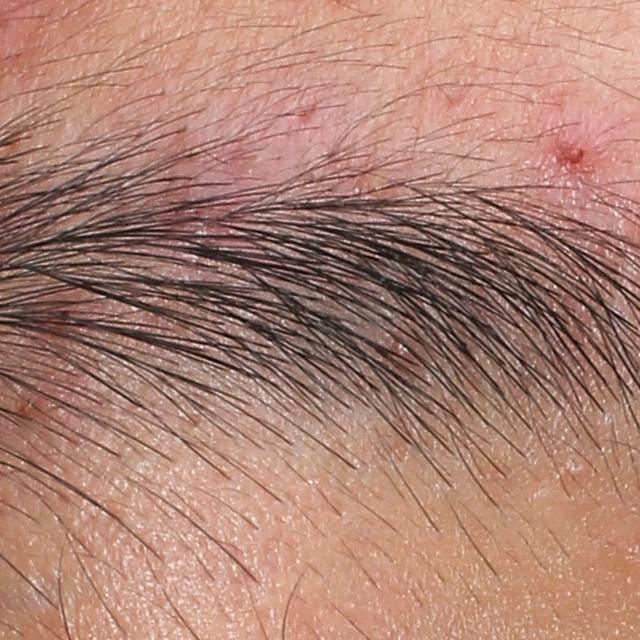comedo: (561, 455, 588, 484)
